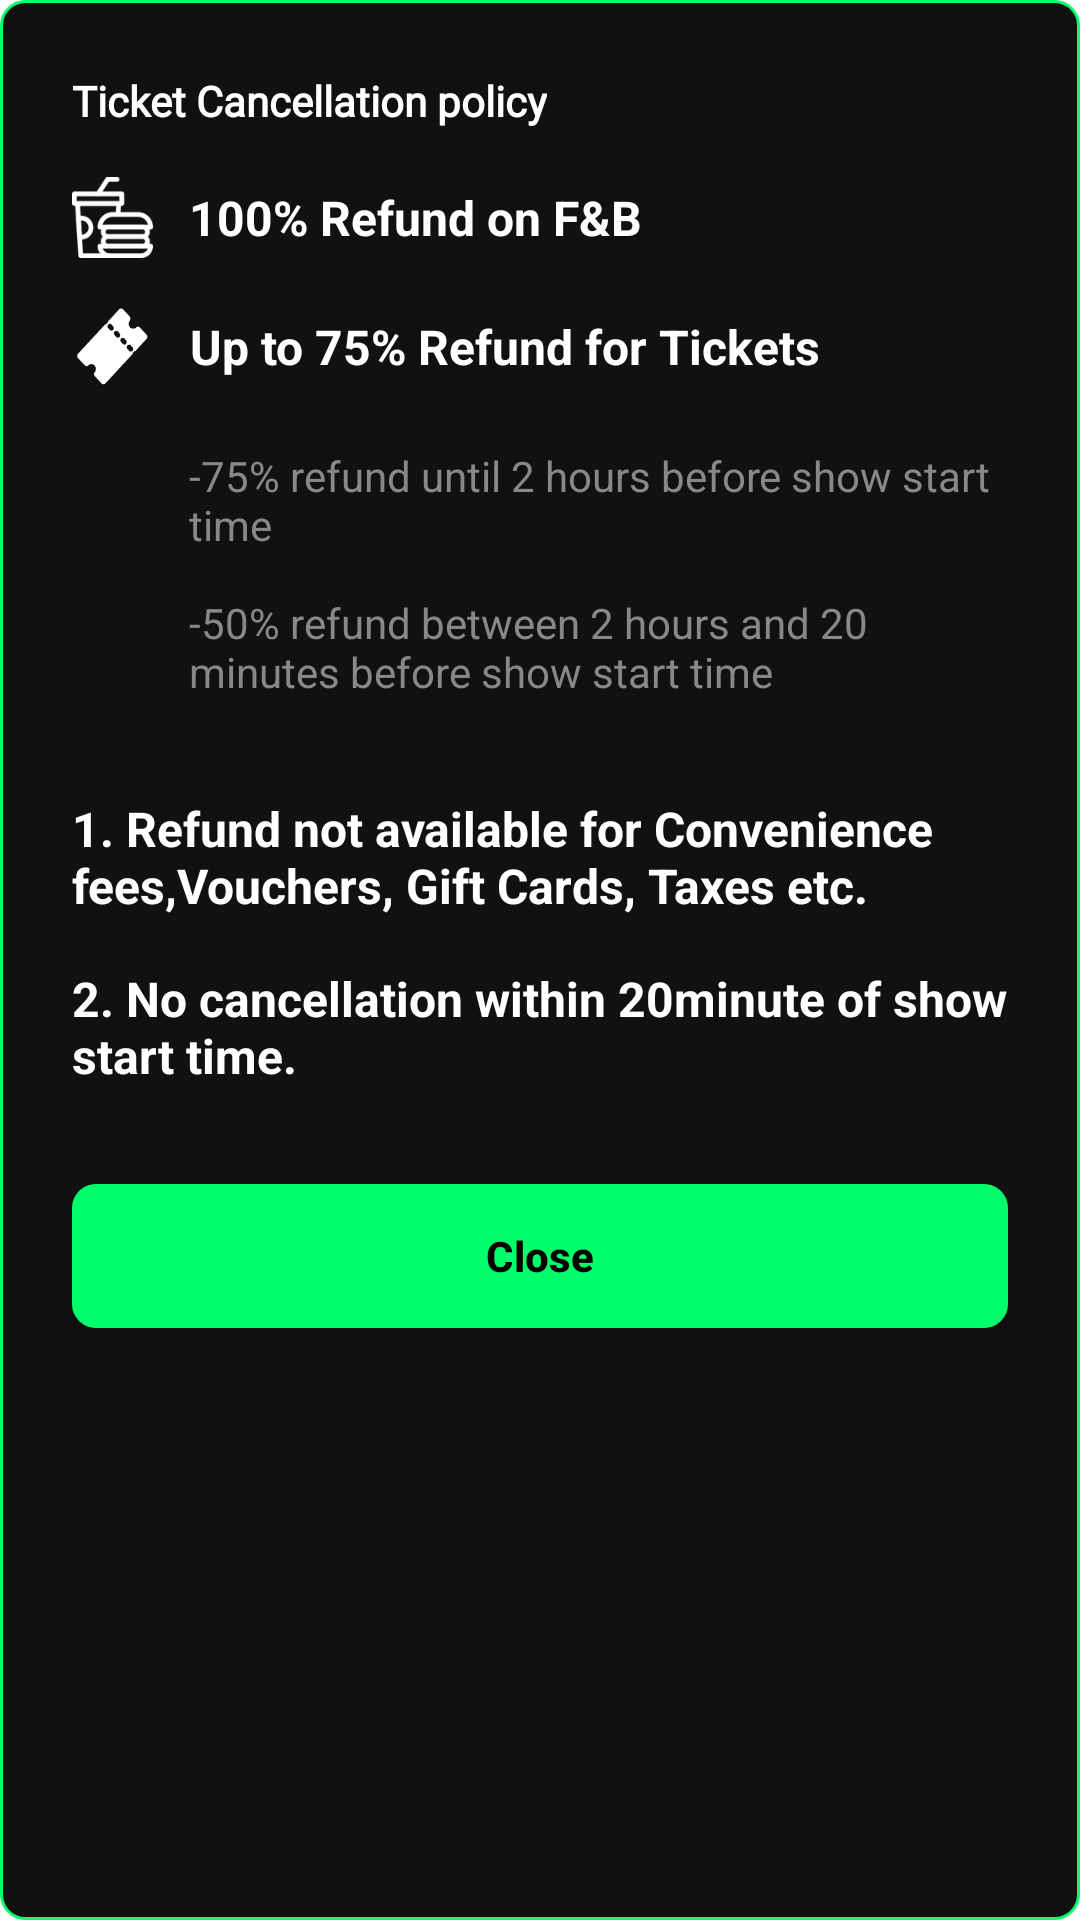

Screen size 1080 x 1920. Icon name, then its box in pixels as (x1, y1, x2, y2):
fast food: (72, 177, 153, 258)
